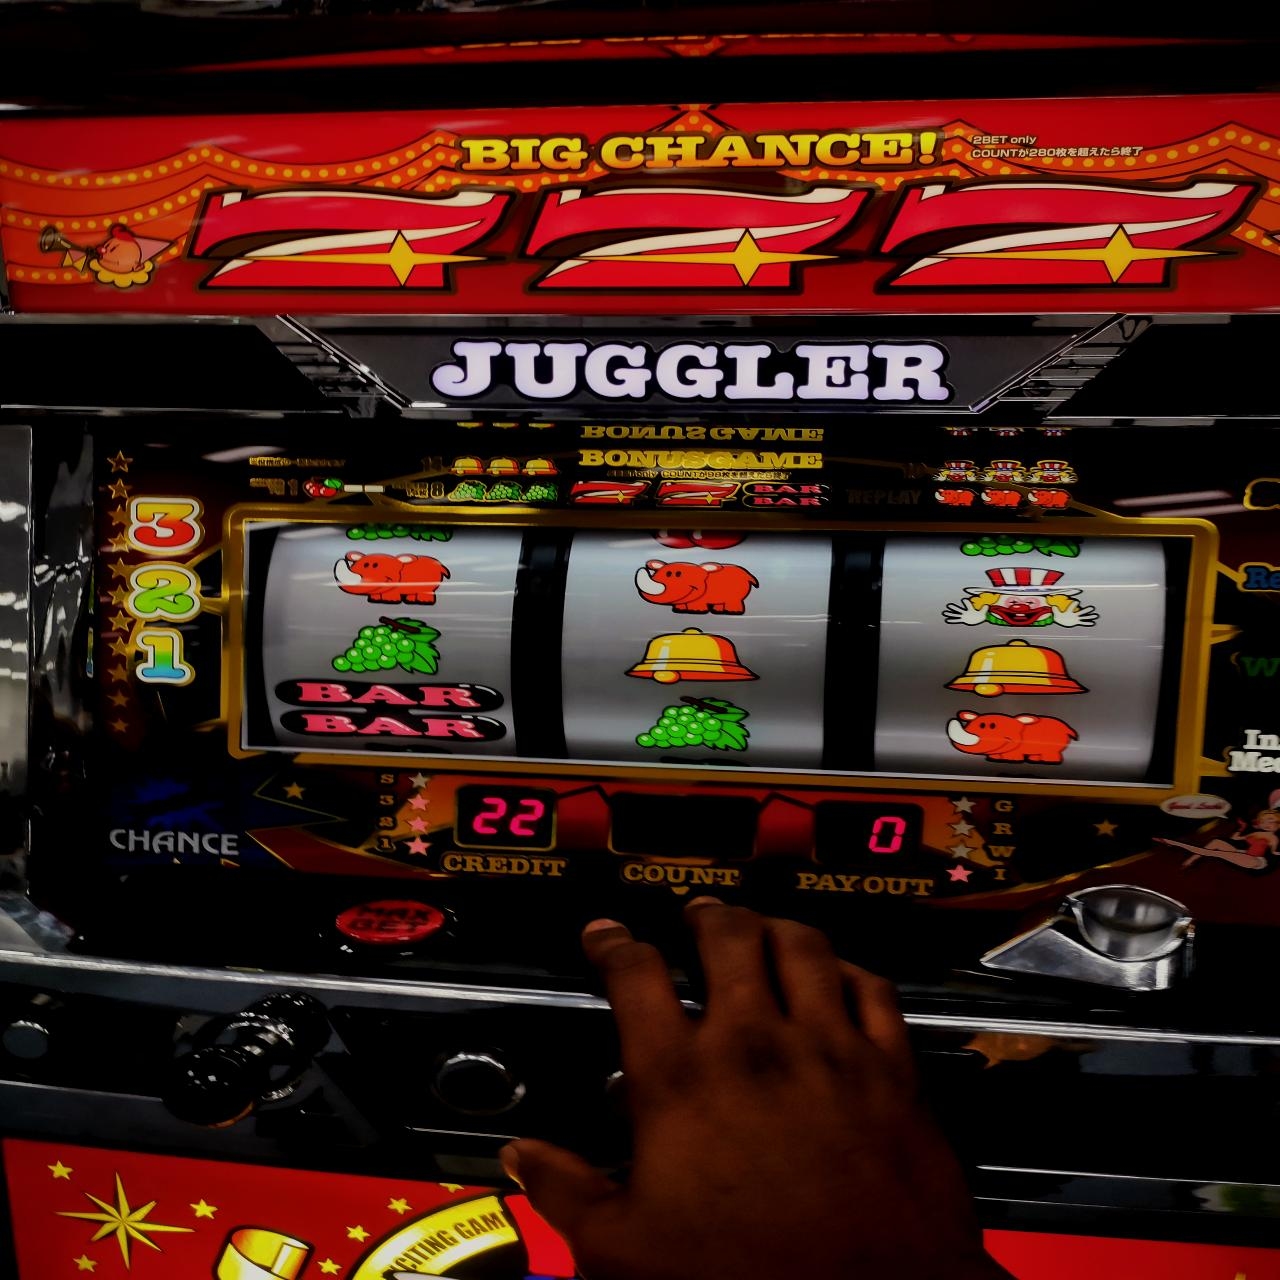8: (938, 712, 1080, 767), (633, 560, 764, 618), (328, 552, 456, 604)
Display: (244, 512, 1219, 792)
bar: (270, 680, 508, 744)
bell: (945, 640, 1089, 701), (621, 627, 762, 688)
clown: (941, 566, 1102, 631)
grape: (328, 617, 441, 678), (640, 703, 749, 751)
